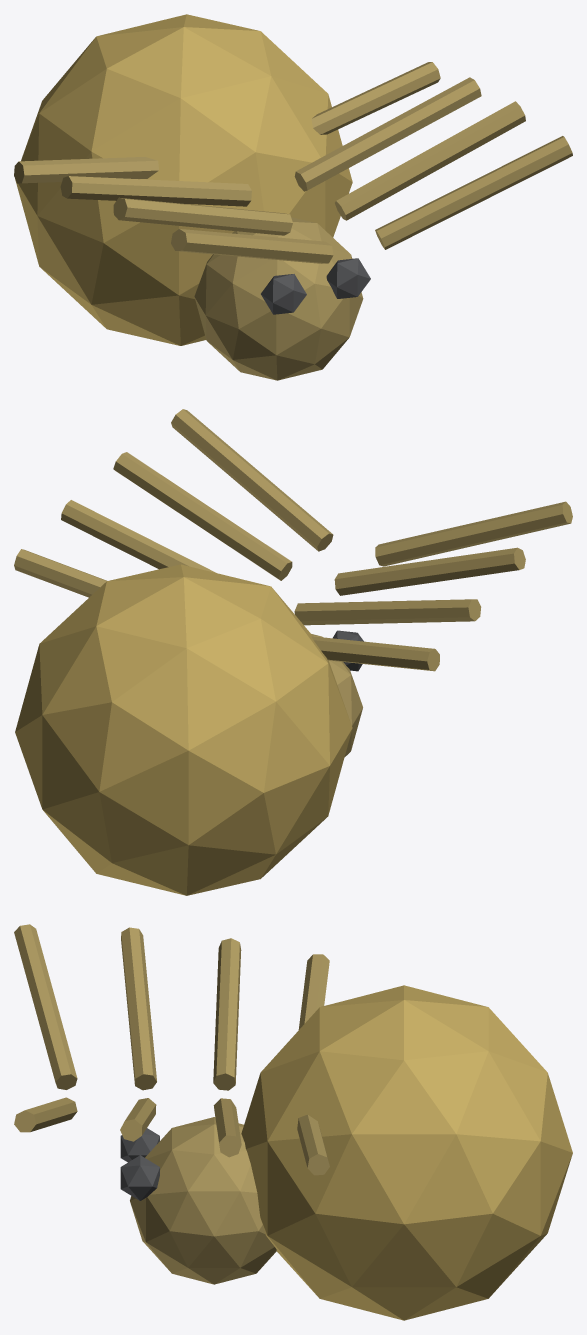
File: oxyopes-macilentus.glb
3 renders of one model, top to bottom at view 1: azimuth 30°, elevation 25°; view 2: azimuth 150°, elevation 25°; view 3: azimuth 270°, elevation 25°, orthographic.
Parts seen in each view (by area): view 1: abdomen, cephalothorax, leg01, leg11, leg21, leg2-1, leg1-1, leg0-1, leg31, leg3-1, eye-1, eye1; view 2: abdomen, leg11, leg0-1, leg01, leg1-1, leg2-1, leg21, leg3-1, leg31, cephalothorax; view 3: abdomen, cephalothorax, leg0-1, leg1-1, leg2-1, leg3-1, leg01, eye1, leg31, leg21, leg11, eye-1.
Boxes of the visible parts, bbox=[...] form: abdomen: bbox=[15, 14, 352, 345]; cephalothorax: bbox=[194, 217, 363, 380]; leg01: bbox=[375, 136, 572, 249]; leg11: bbox=[335, 101, 525, 220]; leg21: bbox=[294, 77, 481, 191]; leg2-1: bbox=[60, 176, 251, 206]; leg1-1: bbox=[113, 197, 292, 235]; leg0-1: bbox=[171, 229, 333, 263]; leg31: bbox=[311, 62, 440, 134]; leg3-1: bbox=[14, 157, 158, 183]; eye-1: bbox=[261, 274, 306, 314]; eye1: bbox=[326, 258, 370, 298]; abdomen: bbox=[15, 564, 352, 895]; leg11: bbox=[113, 452, 292, 580]; leg0-1: bbox=[375, 501, 572, 566]; leg01: bbox=[171, 409, 333, 551]; leg1-1: bbox=[334, 547, 525, 595]; leg2-1: bbox=[294, 599, 481, 625]; leg21: bbox=[61, 500, 215, 572]; leg3-1: bbox=[311, 636, 439, 671]; leg31: bbox=[14, 549, 106, 597]; cephalothorax: bbox=[311, 634, 362, 756]; abdomen: bbox=[241, 985, 572, 1320]; cephalothorax: bbox=[130, 1117, 276, 1284]; leg0-1: bbox=[14, 924, 77, 1089]; leg1-1: bbox=[121, 927, 156, 1090]; leg2-1: bbox=[213, 938, 241, 1090]; leg3-1: bbox=[298, 954, 329, 1029]; leg01: bbox=[14, 1097, 77, 1132]; eye1: bbox=[120, 1155, 159, 1200]; leg31: bbox=[297, 1114, 329, 1175]; leg21: bbox=[213, 1098, 241, 1157]; leg11: bbox=[120, 1098, 156, 1141]; eye-1: bbox=[120, 1128, 159, 1162].
Size of the model in its own units: 0.4572 by 0.32 by 0.5297.
